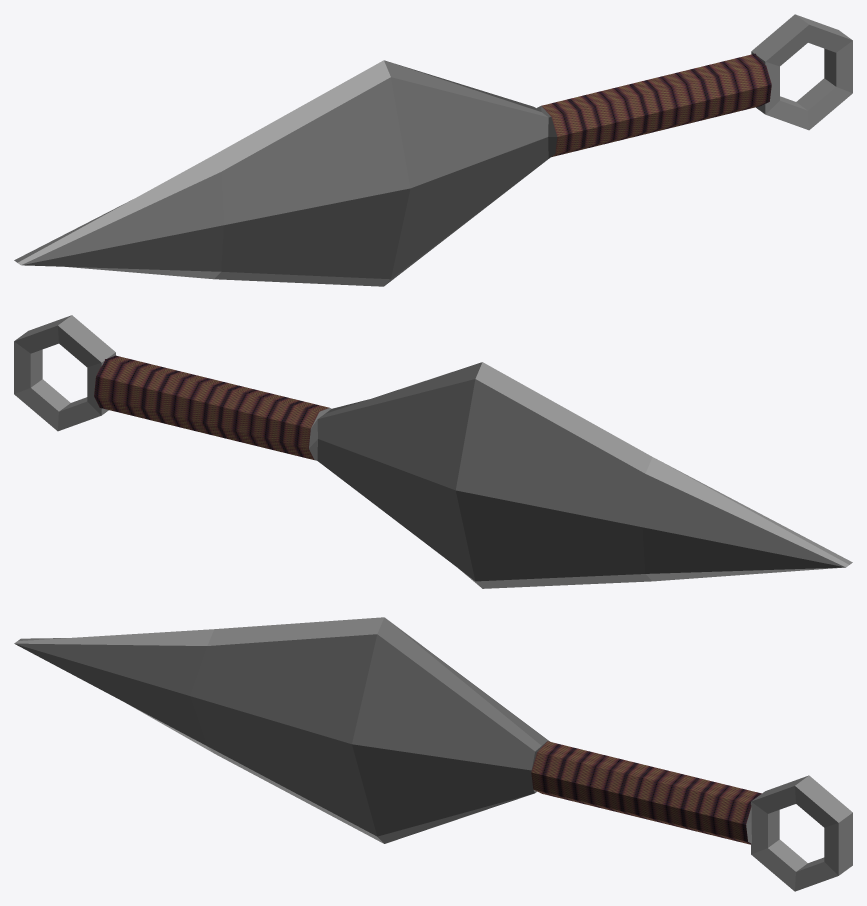
File: Kunai Knife.fbx
3 renders of one model, top to bottom at view 1: azimuth 30°, elevation 25°; view 2: azimuth 150°, elevation 25°; view 3: azimuth 330°, elevation 25°, orthographic.
Parts seen in each view (by area): view 1: Kunai; view 2: Kunai; view 3: Kunai.
Boxes of the visible parts, x1,y1,x2,y2 form: Kunai: (14, 14, 852, 286); Kunai: (14, 315, 852, 588); Kunai: (14, 617, 852, 891).
Bounding box in the file's own units: 37.96 × 9.92 × 4.7.
